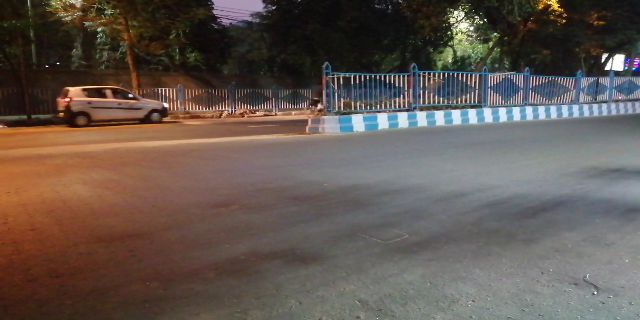Car: (53, 84, 175, 132)
